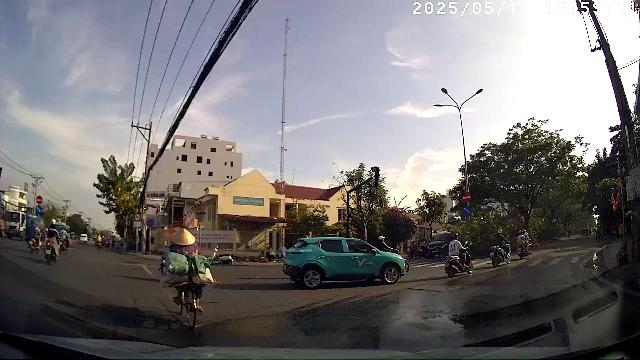102-cam-di-nguoc-chieu: (462, 192, 472, 204), (36, 196, 43, 204)
131a-cam-do-xe: (147, 219, 155, 227)
302a-huong-phai-di-vong-chuong-ngai-vat-1: (462, 205, 473, 217), (35, 205, 43, 214)
